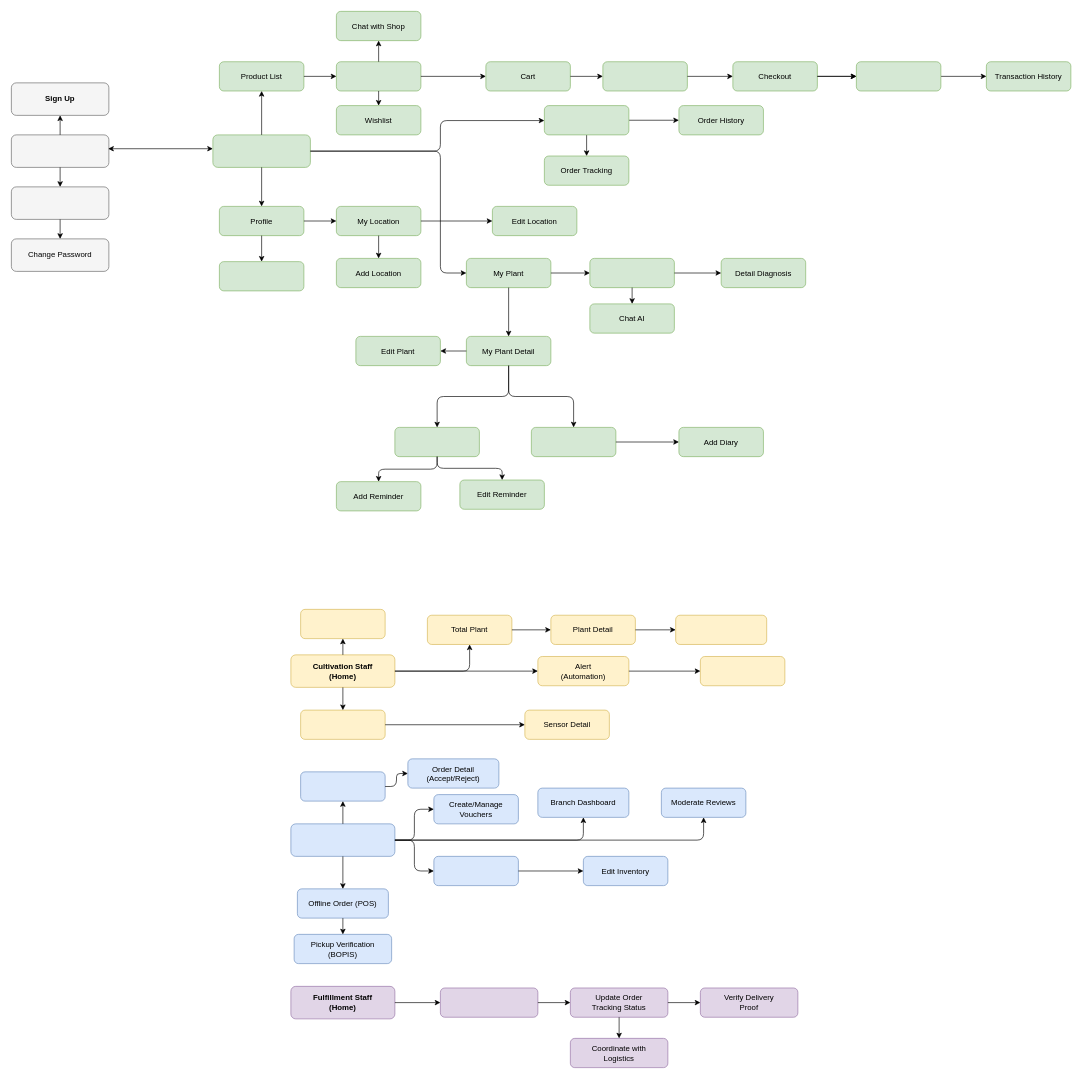
The diagram is 1082 pixels wide and 1079 high, and some of its shapes have lost their labels. The centre of each missing label's shape, as x and y in pixels:
"AI Diagnosis" goes at pixel 631 273.
"Detail" goes at pixel 378 76.
"Edit Profile" goes at pixel 261 276.
"Execution Logs" goes at pixel 742 671.
"Forget Password" goes at pixel 60 202.
"HomePage" goes at pixel 261 150.
"My Order" goes at pixel 586 120.
"Order Fulfillment Queue" goes at pixel 489 1002.
"Order List" goes at pixel 342 786.
"Payment Screen" goes at pixel 898 76.
"Plant Diary" goes at pixel 573 442.
"Plant Diary (Cultivation Log)" goes at pixel 721 629.
"Reminder" goes at pixel 436 442.
"Sign In" goes at pixel 60 150.
"Statistical" goes at pixel 342 624.
"Stock Inventory" goes at pixel 475 871.
"Store Staff (Home)" goes at pixel 342 839.
"Total Sensor" goes at pixel 342 724.
"Voucher" goes at pixel 644 76.
